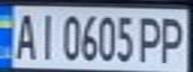0: (57, 10, 81, 62), (97, 11, 118, 62)
5: (115, 11, 139, 63)
6: (78, 11, 100, 62)
A: (9, 9, 39, 61)
I: (33, 9, 57, 61)
P: (154, 12, 190, 64), (136, 12, 166, 63)
